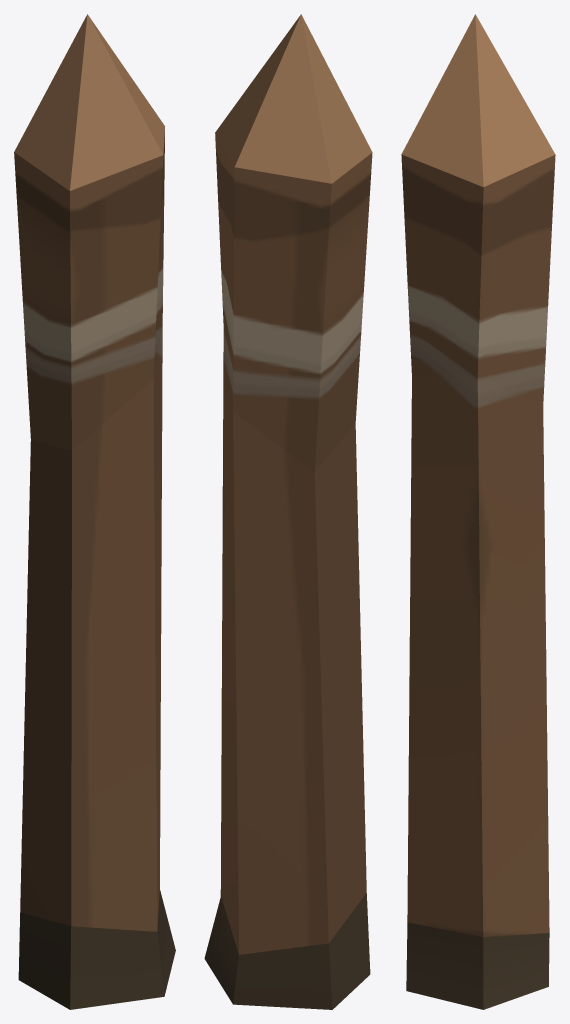
Rendered from bog_post.gltf.
3 renders of one model, left to right at view 1: azimuth 30°, elevation 25°; view 2: azimuth 150°, elevation 25°; view 3: azimuth 270°, elevation 25°, orthographic.
Parts seen in each view (by area): view 1: bog_post; view 2: bog_post; view 3: bog_post.
Part boxes in pixels (x1,y1,x2,y2): bog_post: [14, 14, 175, 1009]; bog_post: [204, 14, 372, 1009]; bog_post: [401, 14, 555, 1009].
Bounding box in the file's own units: 1.04 × 6.66 × 0.9706.
1 material, 1 textured.
